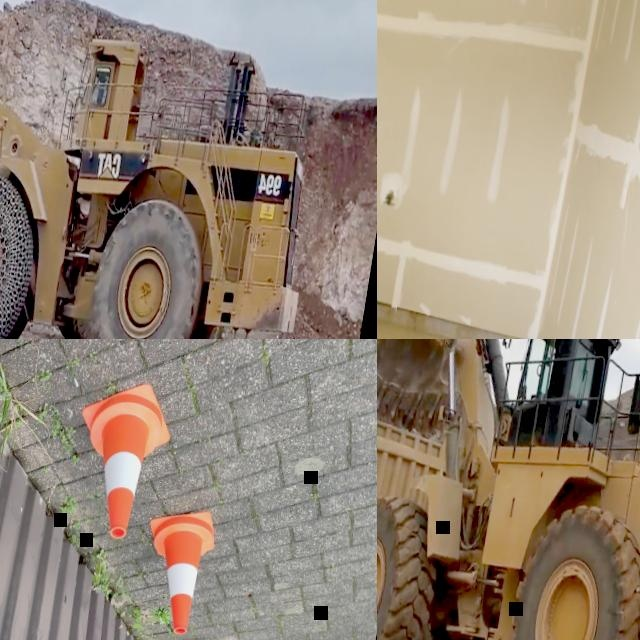Person: (100, 80, 109, 108)
Safety Cone: (62, 376, 185, 553), (133, 501, 223, 638)
machinery: (0, 0, 345, 339), (377, 339, 640, 640), (377, 379, 459, 640)
